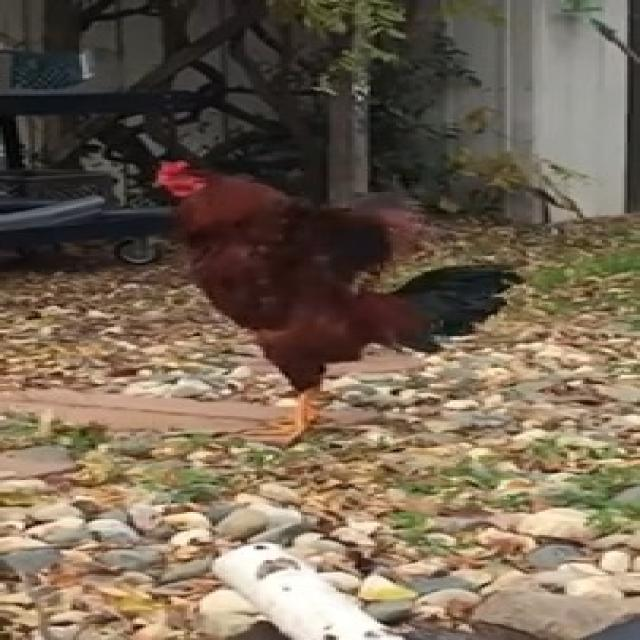wing flap: (124, 148, 529, 450)
